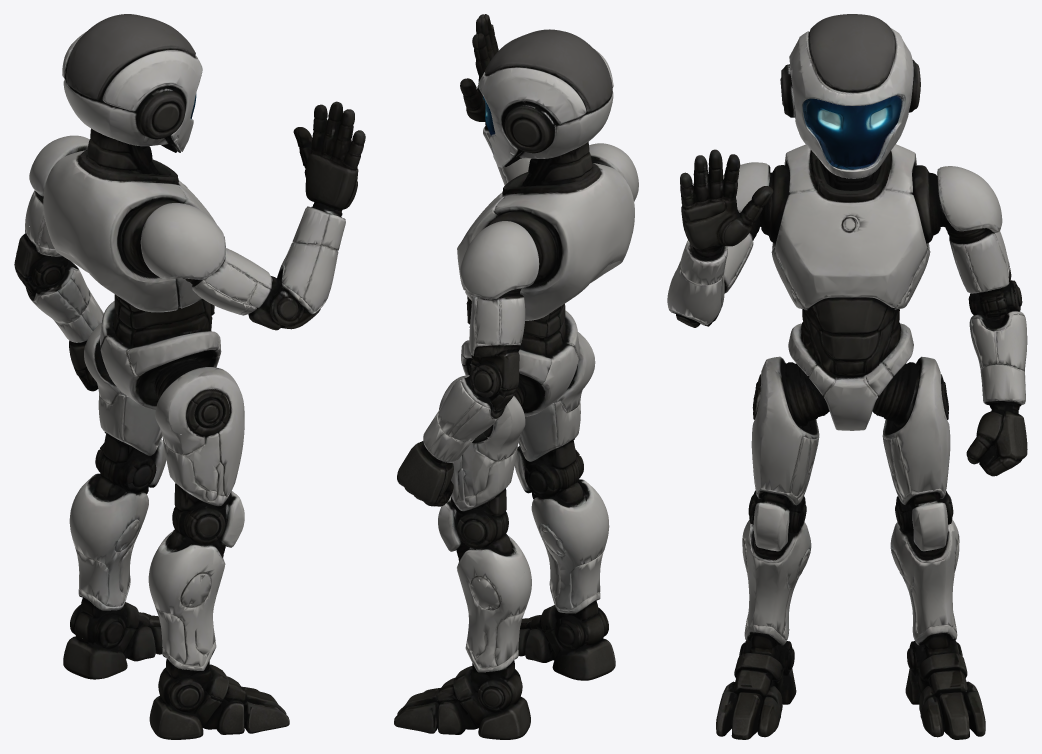
Rendered from vero.glb.
The picture shows the model from 3 angles, left to right: view 1: azimuth 30°, elevation 25°; view 2: azimuth 150°, elevation 25°; view 3: azimuth 270°, elevation 25°; orthographic projection. The views are drawn at different scales.
Parts seen in each view (by area): view 1: tripo_node_461e5950-bf4d-4af3-b27d-9f7d5e207ab6; view 2: tripo_node_461e5950-bf4d-4af3-b27d-9f7d5e207ab6; view 3: tripo_node_461e5950-bf4d-4af3-b27d-9f7d5e207ab6.
Boxes of the visible parts, x1,y1,x2,y2 form: tripo_node_461e5950-bf4d-4af3-b27d-9f7d5e207ab6: [14, 14, 365, 739]; tripo_node_461e5950-bf4d-4af3-b27d-9f7d5e207ab6: [394, 14, 638, 739]; tripo_node_461e5950-bf4d-4af3-b27d-9f7d5e207ab6: [667, 14, 1027, 739].
Bounding box in the file's own units: 0.3253 × 0.9795 × 0.4749.
Materials: 1 (1 with a texture image).
